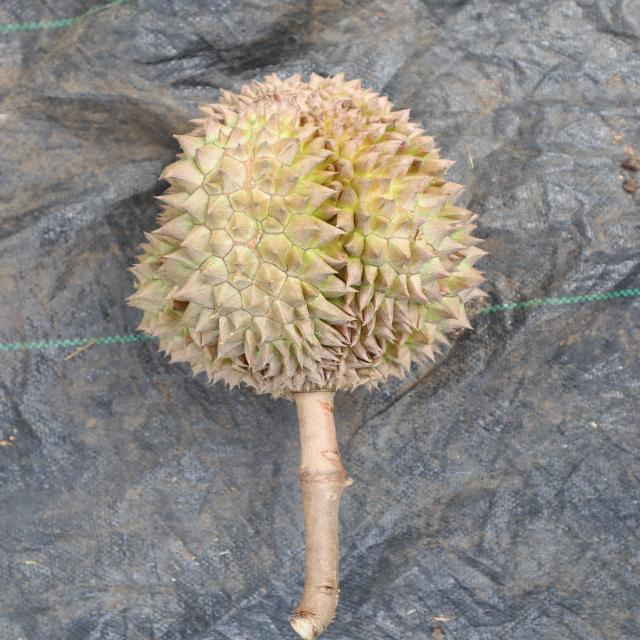mature: (128, 72, 496, 403)
